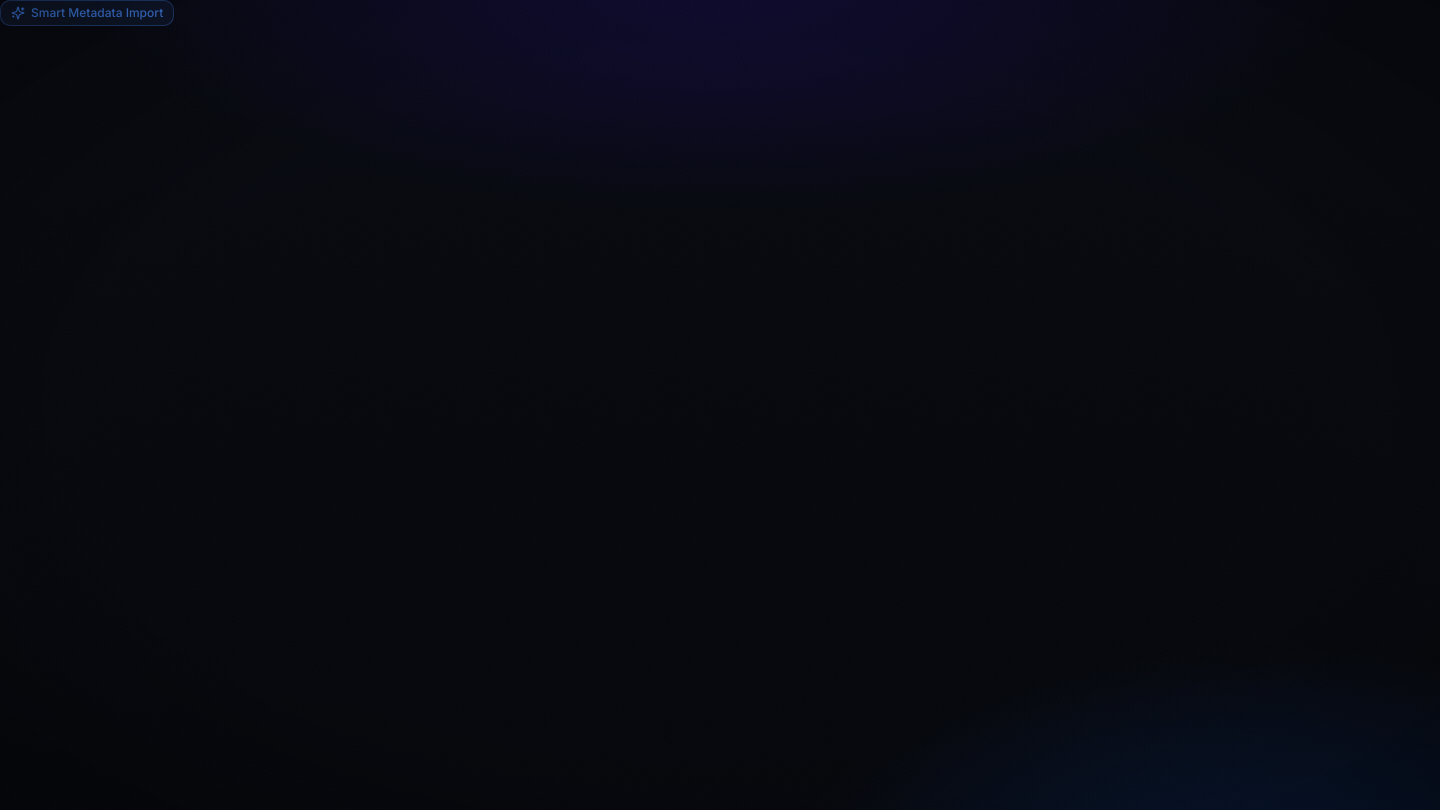
Test: Smart Metadata Import — Draft invariant › import flow produces a Draft-only patch and never calls submit/QC/legal RPCs
Later steps or results of the test are not shown.
// Open dialog
Click the button "Smart Metadata Import". click: (87,13)
box: [0,0,174,26]
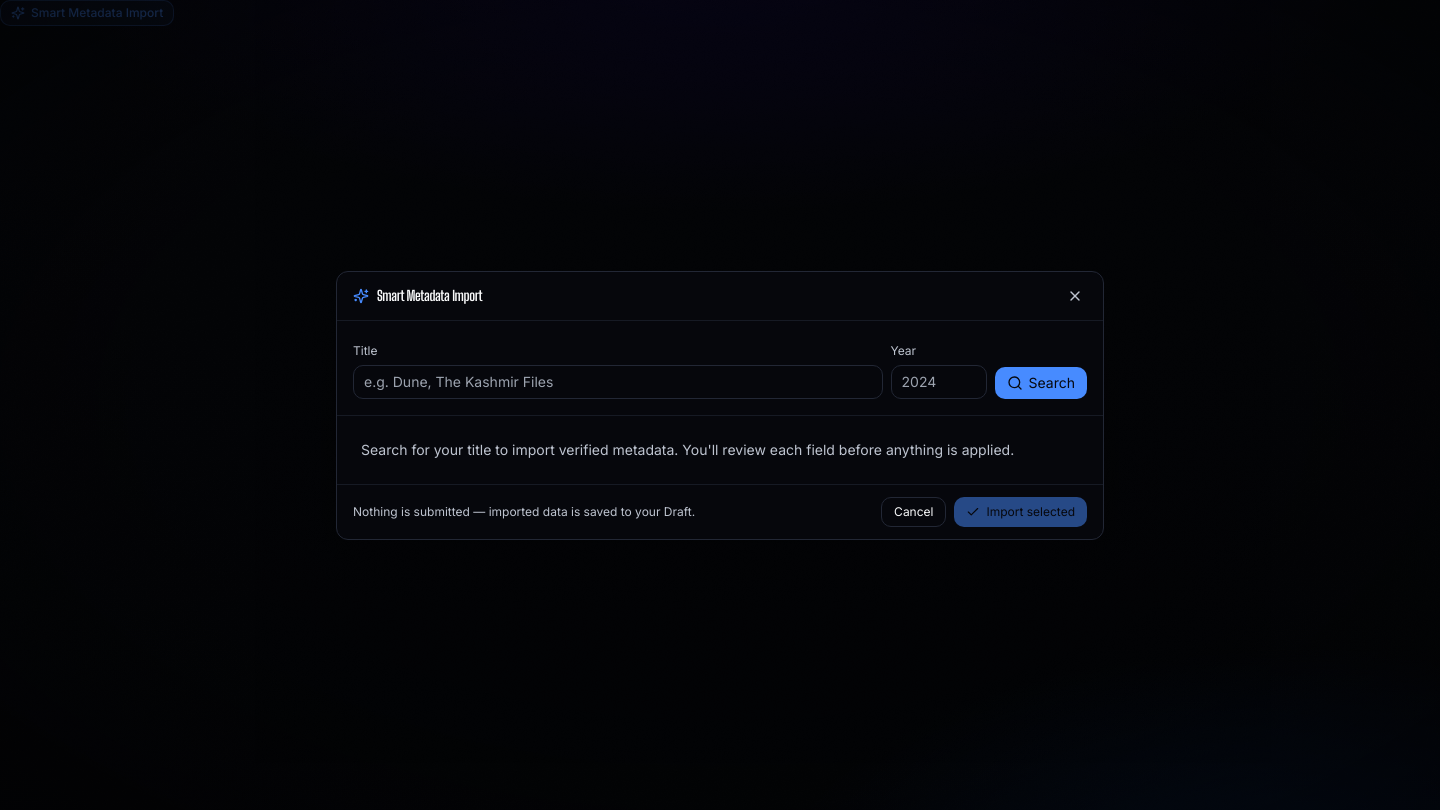
Type "Test Film" into the field with placeholder "e.g. Dune, The Kashmir Files". click: (618,382)
box: [353,364,882,398]
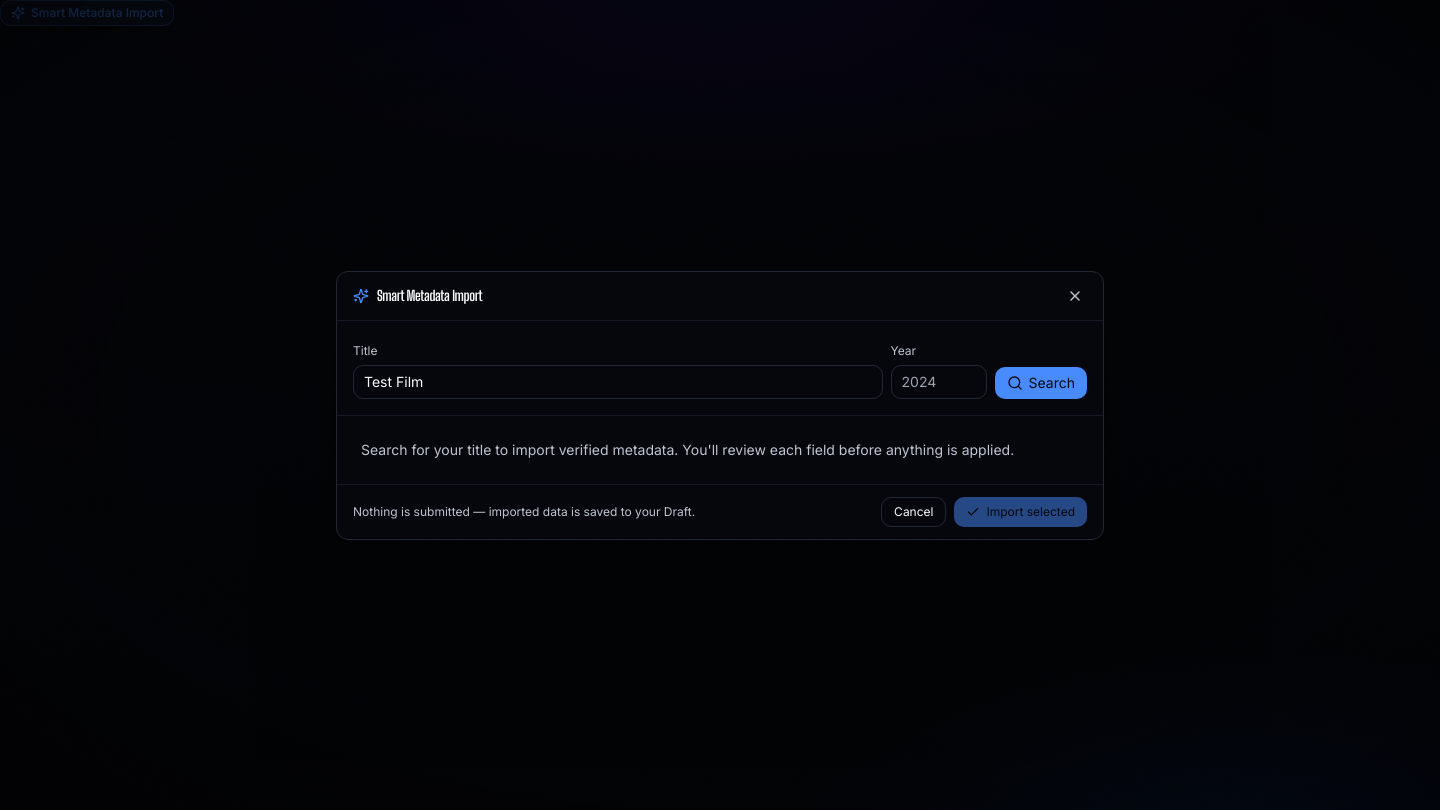
Click the button "Search". click: (1041,382)
box: [994,366,1087,398]
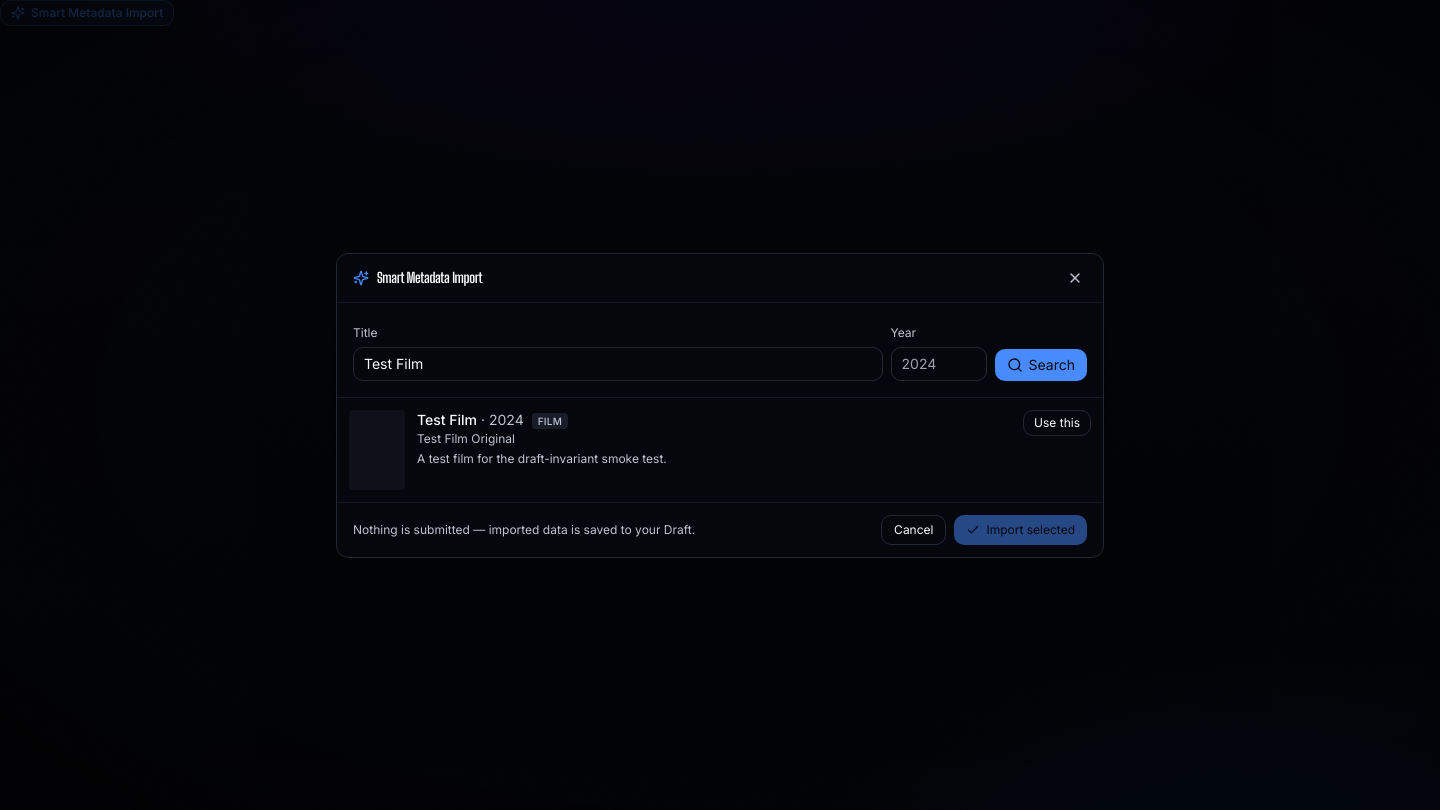
// Pick candidate
Click the button "Use this". click: (1057,422)
box: [1023,410,1091,436]
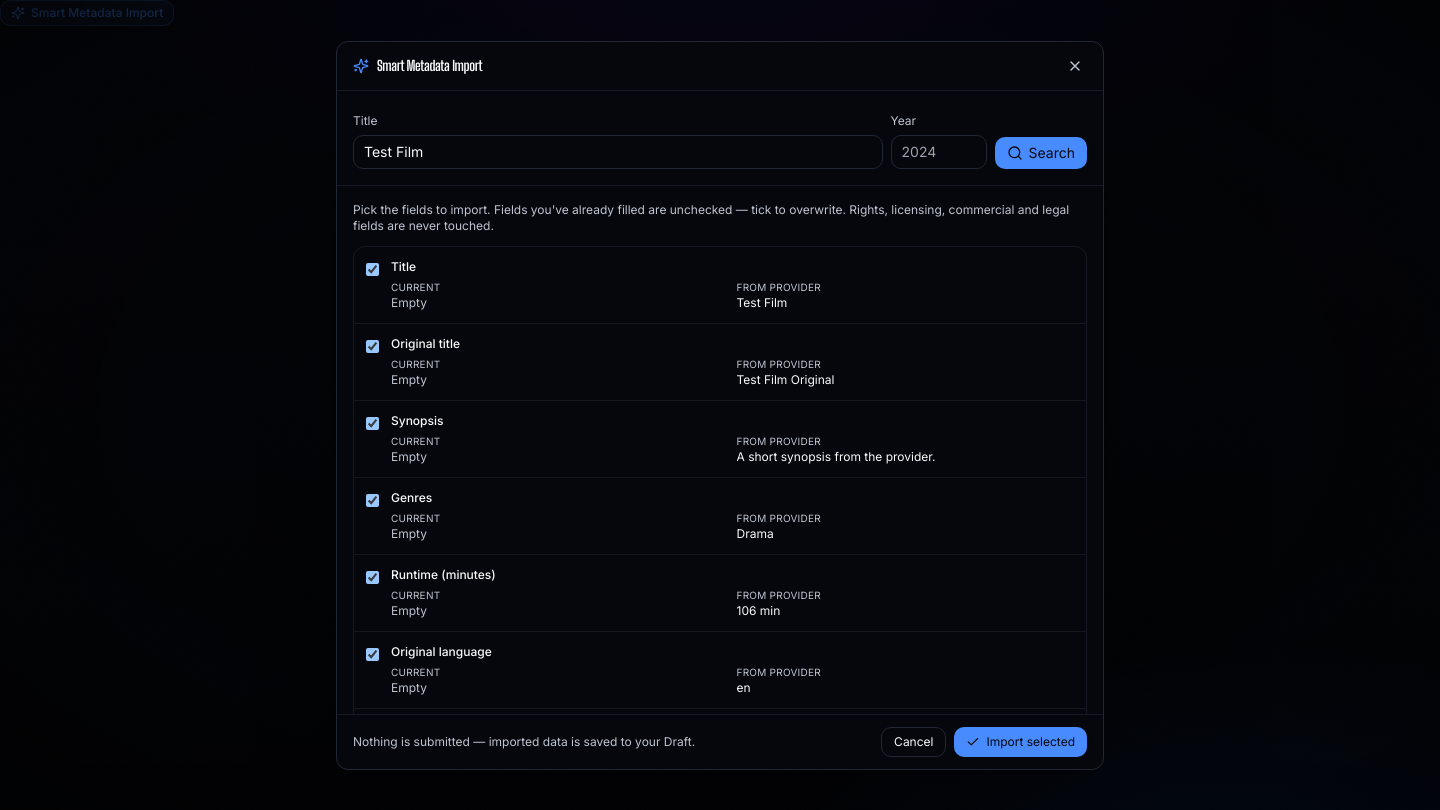
expect the button "Import selected" is enabled: met, box [954,726,1087,756]
